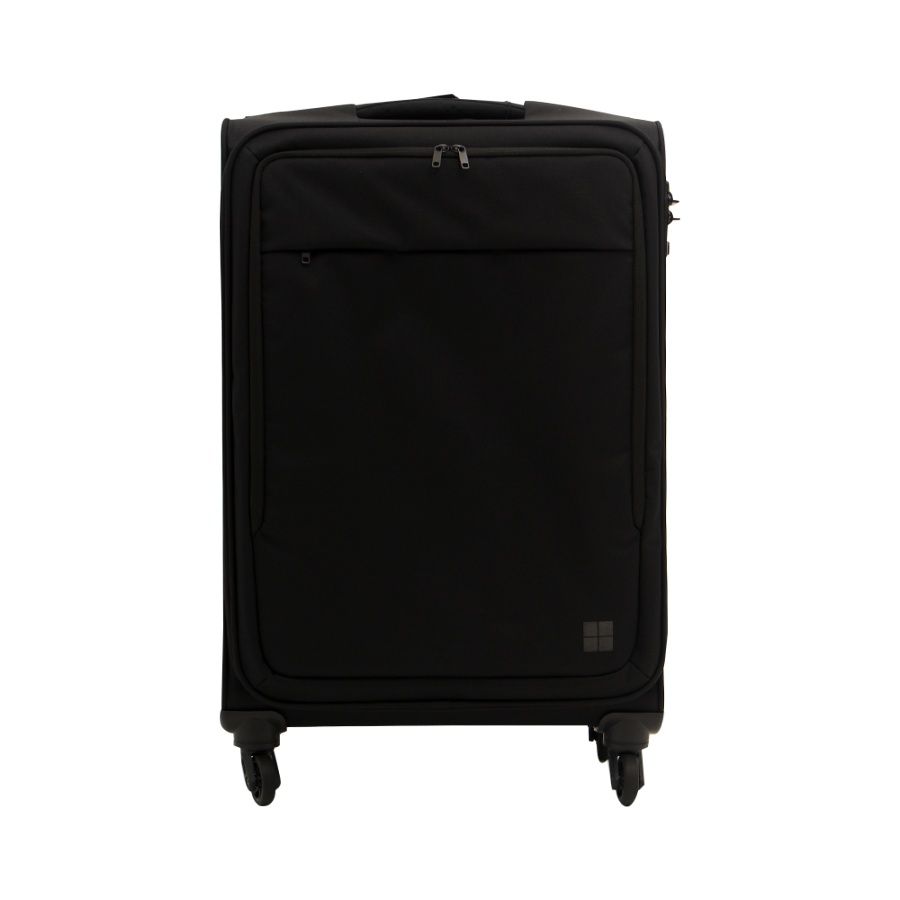box: (222, 105, 667, 726)
handle: (356, 96, 526, 119)
wheel: (238, 744, 282, 806), (605, 753, 646, 807)
